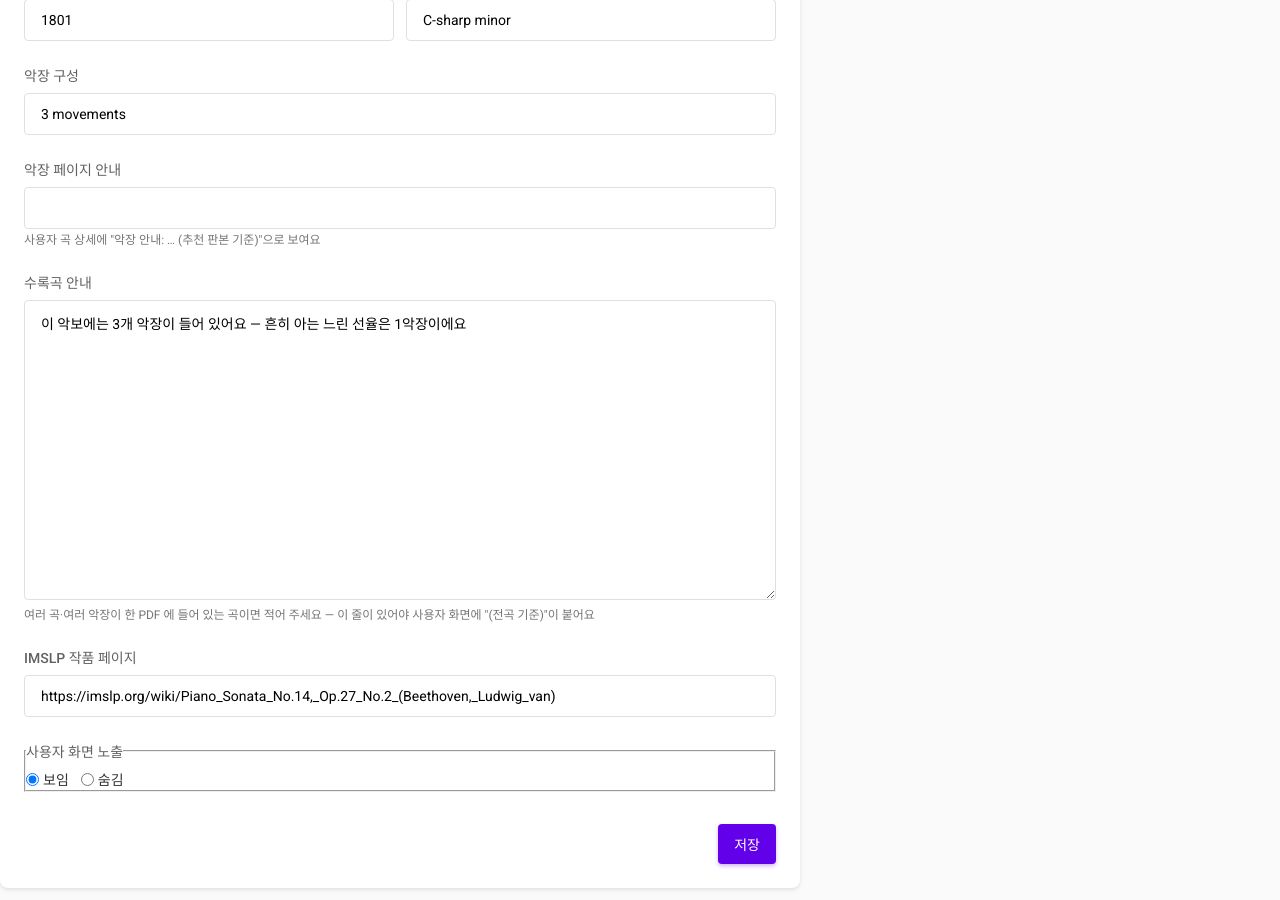
Test: WorkFormPage — 수록곡 안내(collectionGuide) 왕복 › 수록곡 안내만 고쳐도 '바뀐 게 있다'로 보고 이탈을 막는다 (05-E)
(page scrolled)
In the text box labelled "수록곡 안내": point(400, 450) [24,300,776,600], type "!"
(page scrolled)
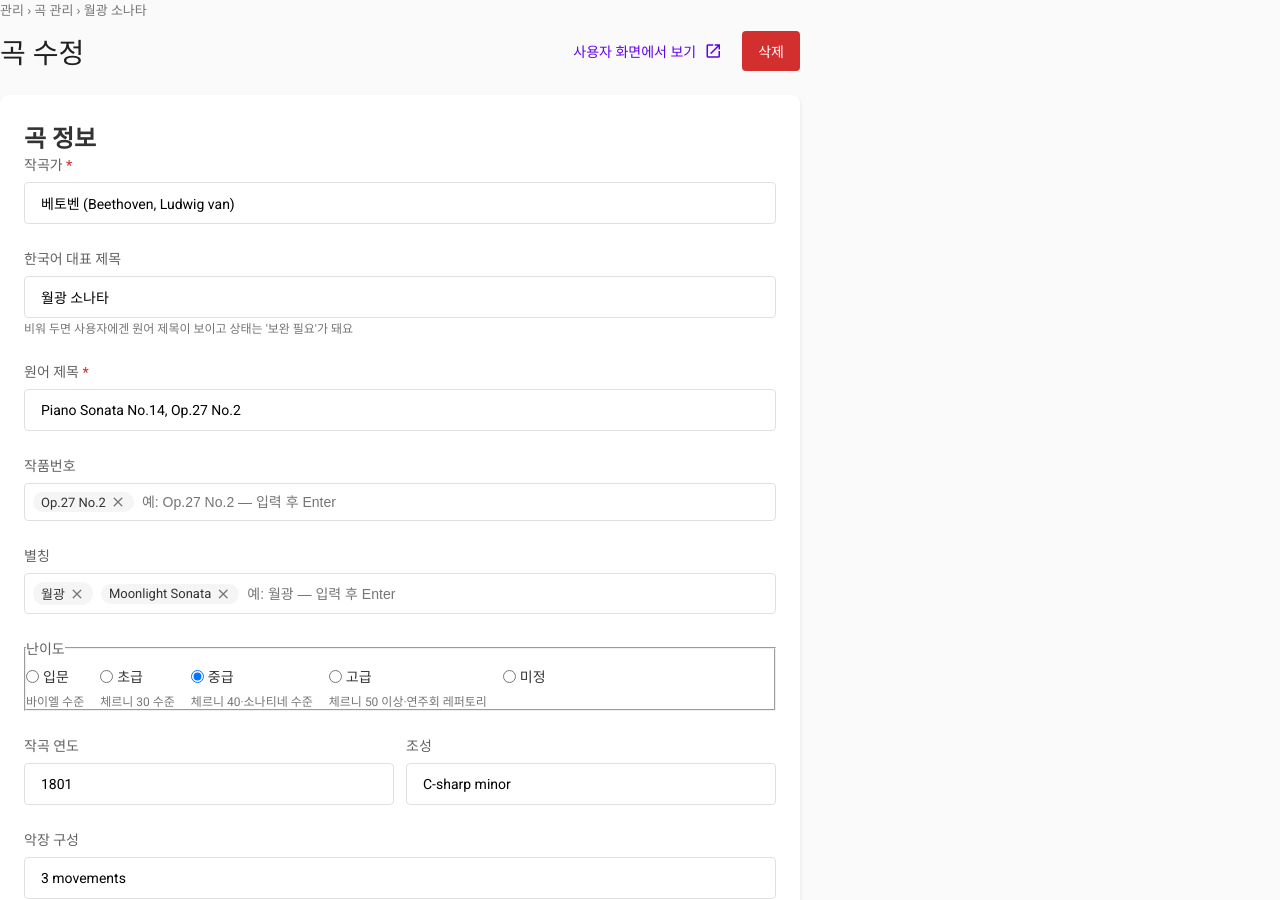
Click the link "곡 관리": point(54, 10) [34,3,73,18]
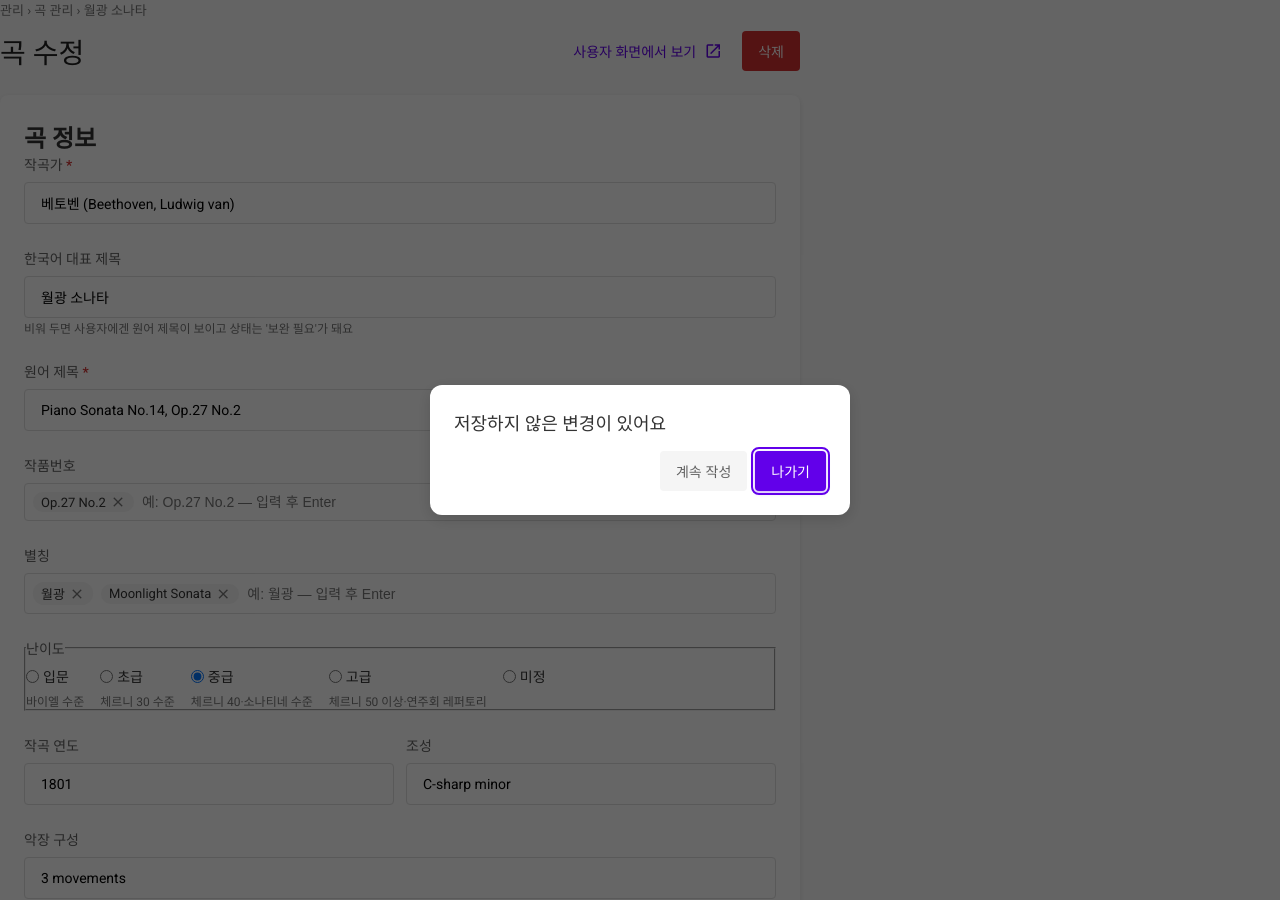
Now the dialog "저장하지 않은 변경이 있어요" is shown, box [430,385,850,515]
